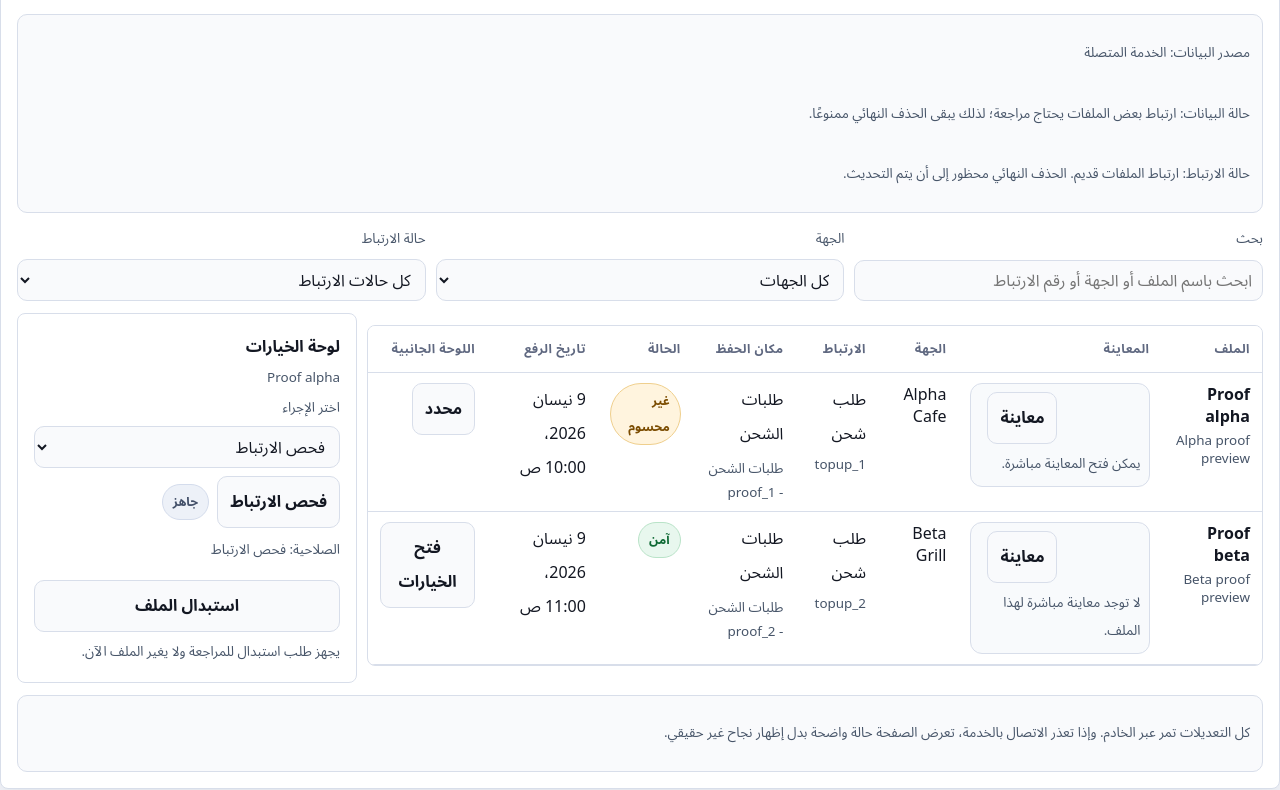
Test: media center shell › surfaces unavailable runtime when transport is not connected
The width and height of the screenshot is (1280, 790).
(page scrolled)
Select "فحص الارتباط" in the dropdown with test id "media-action-select-proof_1" at (187, 447), box [34, 426, 340, 468]
Click the button with test id "media-action-run-proof_1" at (279, 502), box [217, 476, 340, 528]
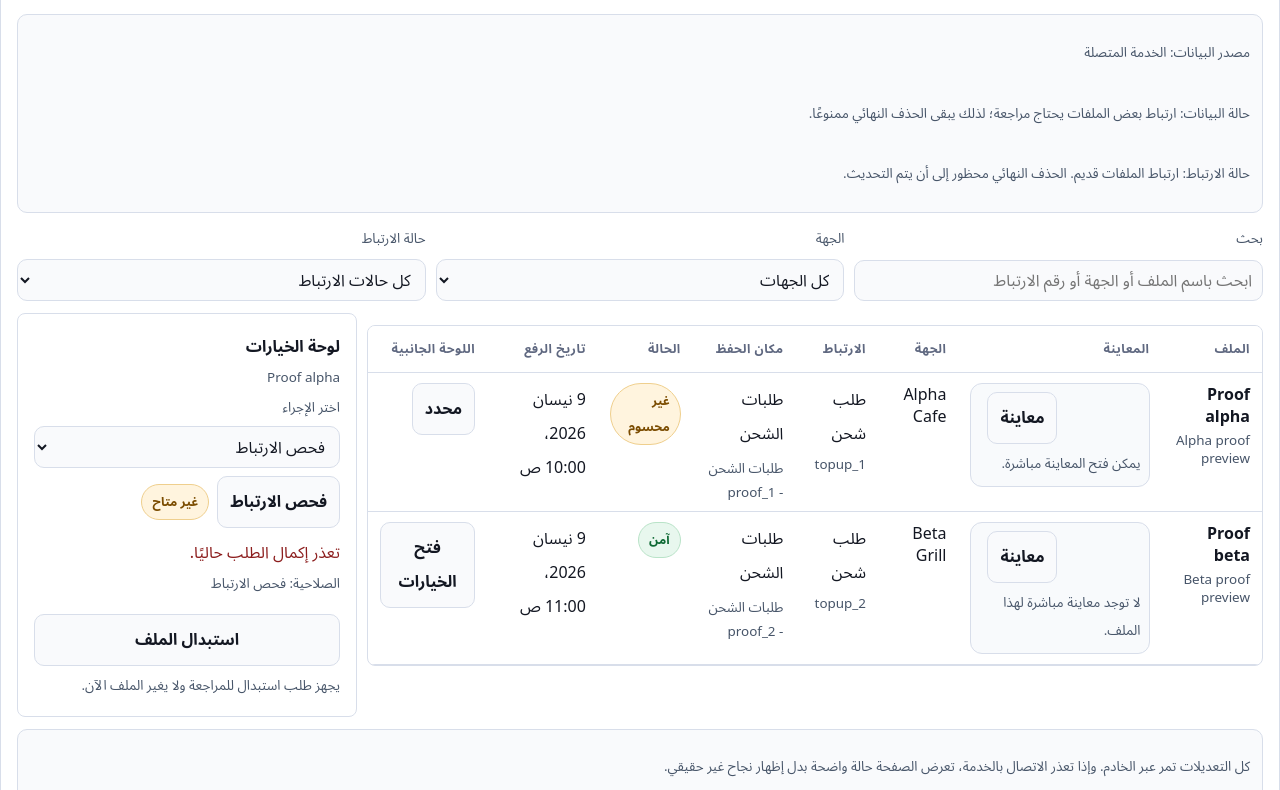
Expected: the message "تعذر إكمال الطلب حاليًا." is shown, [190, 541, 340, 563]
